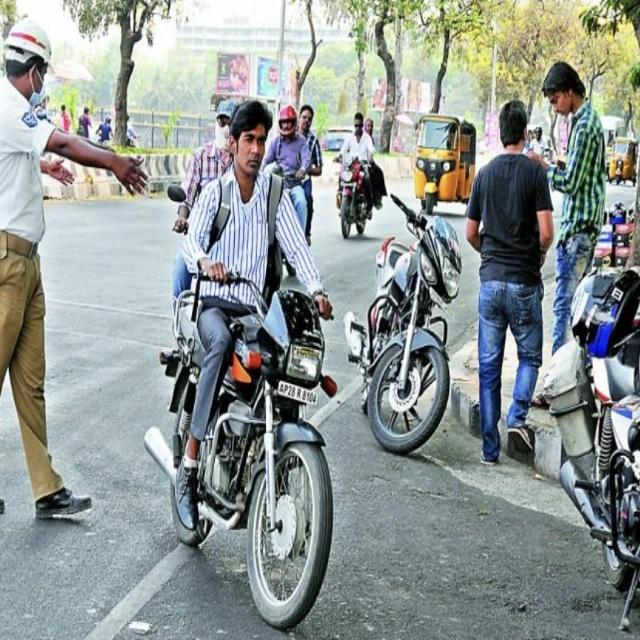WithHelmet: (264, 105, 310, 230)
WithoutHelmet: (175, 99, 334, 531), (171, 100, 242, 340), (331, 112, 376, 218), (296, 104, 323, 244), (362, 118, 387, 210)
